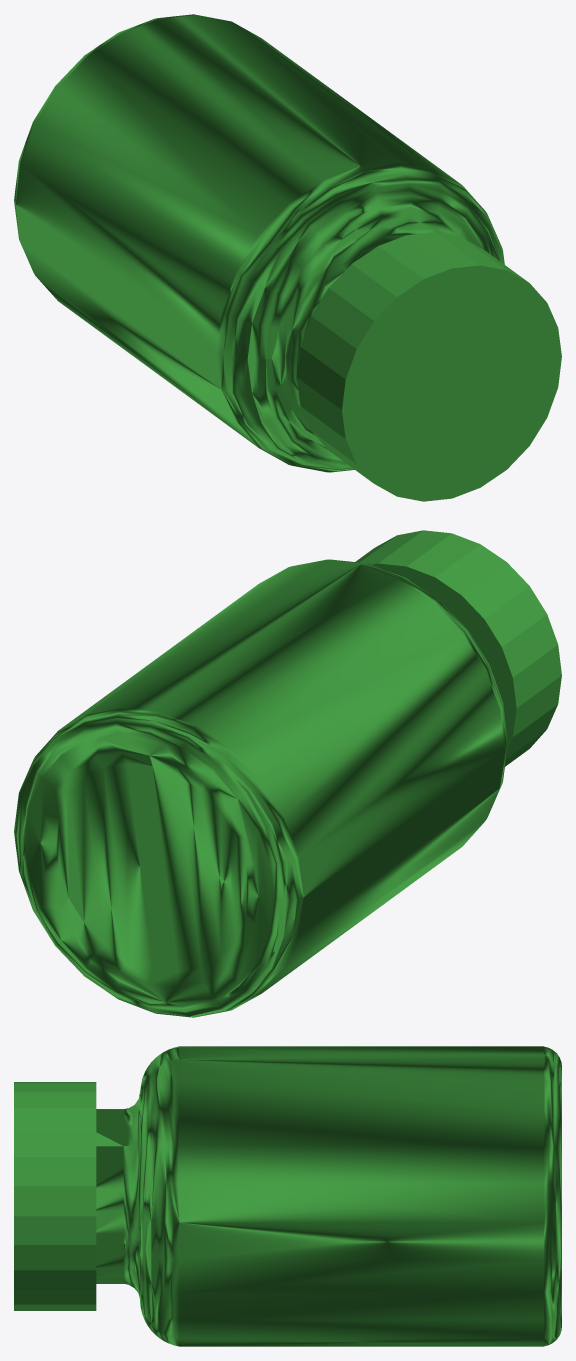
The model's file is model_align.obj.
The picture shows the model from 3 angles, top to bottom: view 1: azimuth 30°, elevation 25°; view 2: azimuth 150°, elevation 25°; view 3: azimuth 270°, elevation 25°; orthographic projection. The views are drawn at different scales.
Size of the model in its own units: 0.102 by 0.102 by 0.1855.
